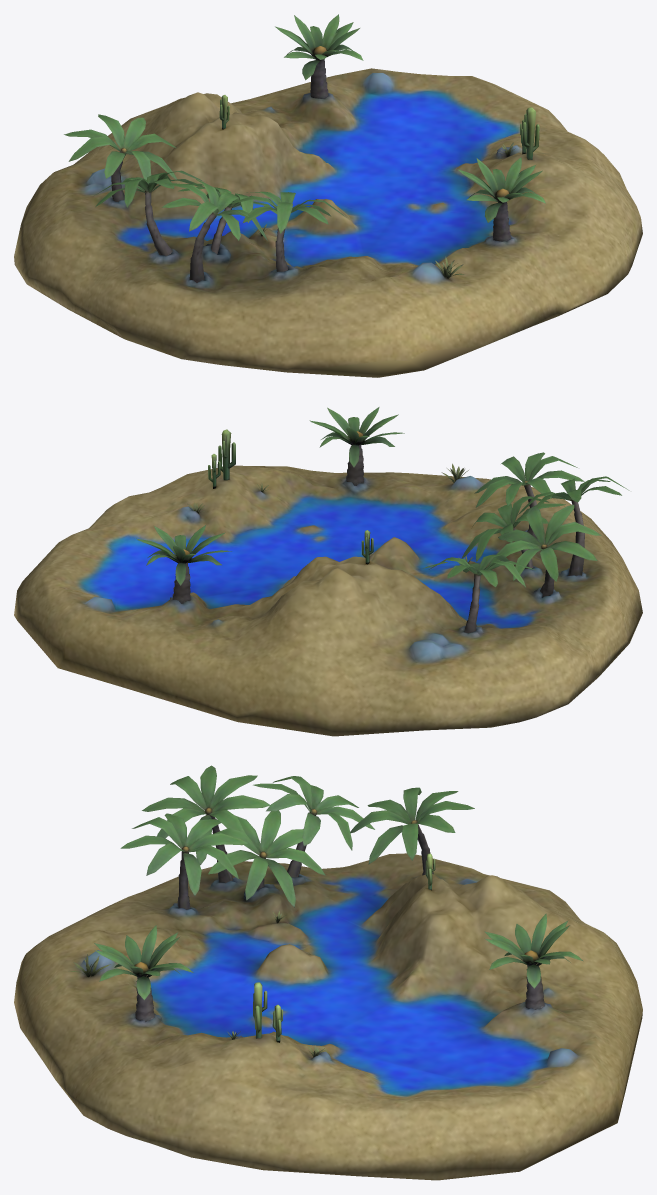
The model's file is Oasis.glb.
The picture shows the model from 3 angles, top to bottom: view 1: azimuth 30°, elevation 25°; view 2: azimuth 150°, elevation 25°; view 3: azimuth 270°, elevation 25°; orthographic projection. The views are drawn at different scales.
Parts seen in each view (by area): view 1: Ground.low, plants.low; view 2: Ground.low, plants.low; view 3: Ground.low, plants.low.
Boxes of the visible parts, box(x1,y1,x2,y2) form: Ground.low: box(14, 68, 642, 377); plants.low: box(64, 14, 545, 282); Ground.low: box(14, 465, 642, 736); plants.low: box(136, 407, 629, 633); Ground.low: box(14, 853, 642, 1180); plants.low: box(68, 765, 583, 1057).
Bounding box in the file's own units: 2.1 × 0.5367 × 1.96.
2 materials, 2 textured.
